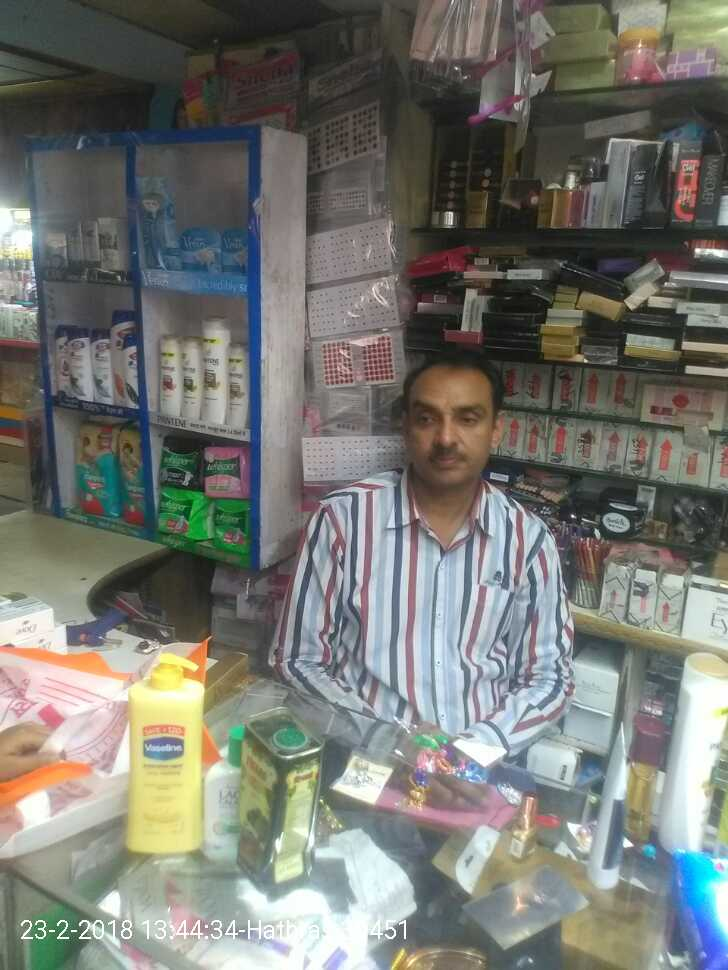venus: (141, 180, 181, 270), (181, 225, 220, 270), (220, 225, 246, 269)
